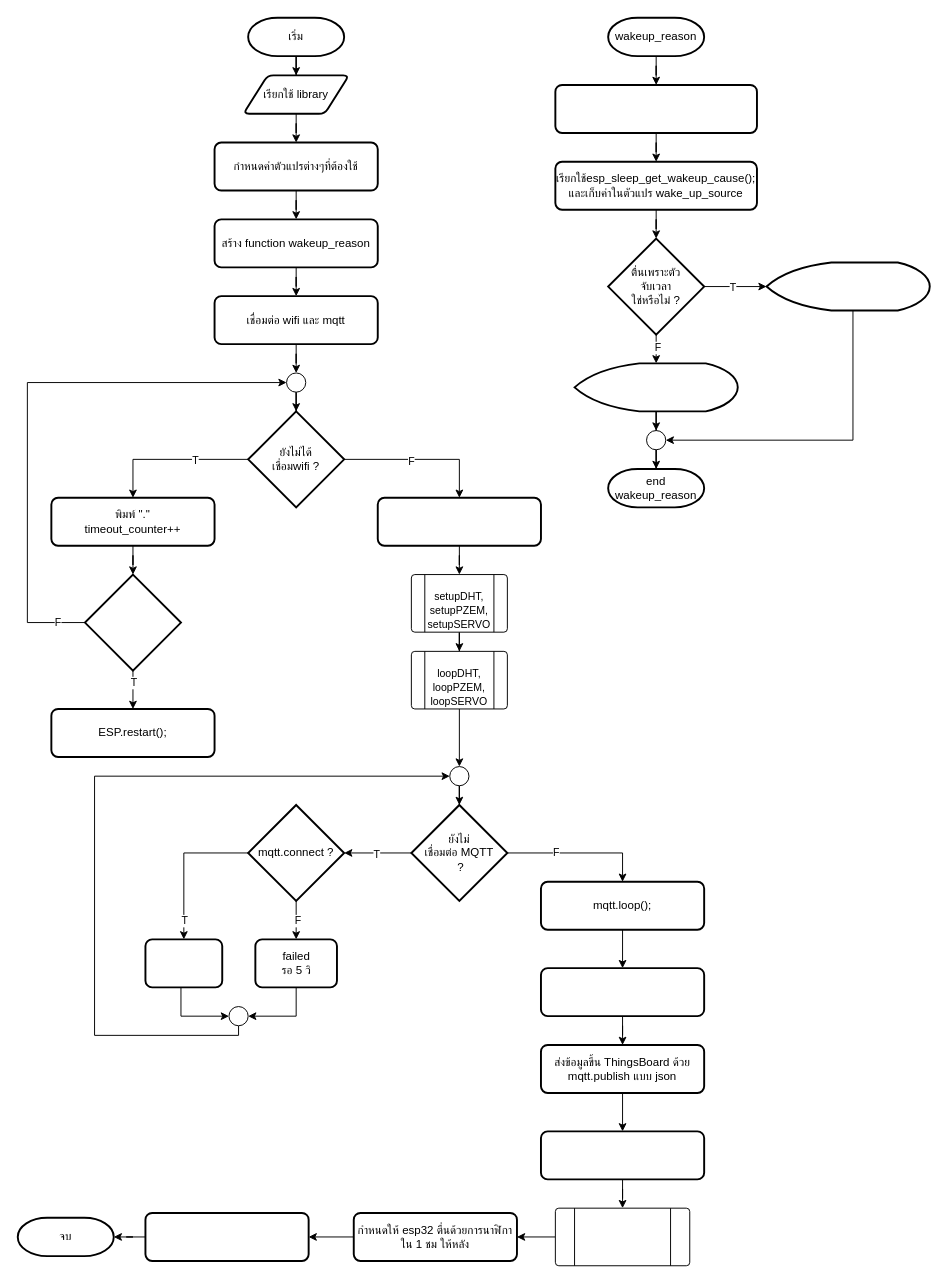
Image size: 947x1283. Some labels were removed from this diagram. The centre of each missing label's shape, as x and y in pixels:
++AngleC: [622,1155]
connected: [183,963]
esp32 เข้าสู่ Deep sleep mode: [226,1236]
กำหนด IP และ PORT ของ MQTT: [458,521]
ประกาศตัวแปร wake_up_source: [655,108]
หมดเวลา เชื่อมต่อ ?: [132,622]
อ่านค่าจากอุปกรณ์ต่างๆ: [622,992]
เรียกใช้ wakeup_reason: [622,1236]
แสดงข้อความ "not caused by Deep Sleep": [655,387]
แสดงข้อความ "Wake up by a timer": [847,286]
